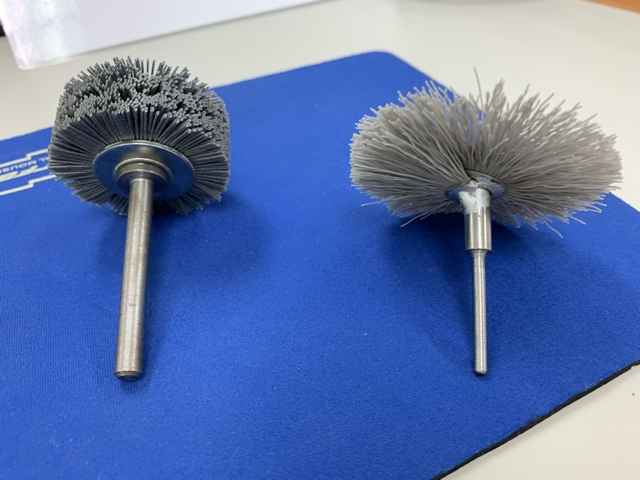TOOL: (351, 68, 630, 376)
Wheel Brush: (40, 53, 242, 380)
